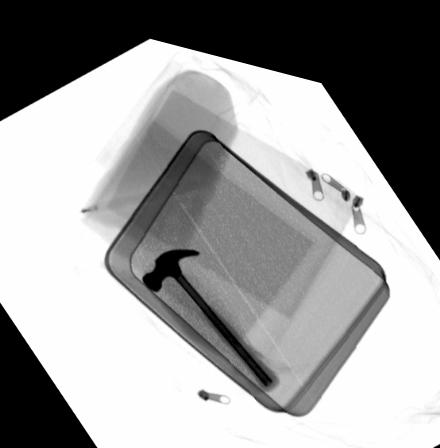Hammer: (138, 237, 279, 376)
